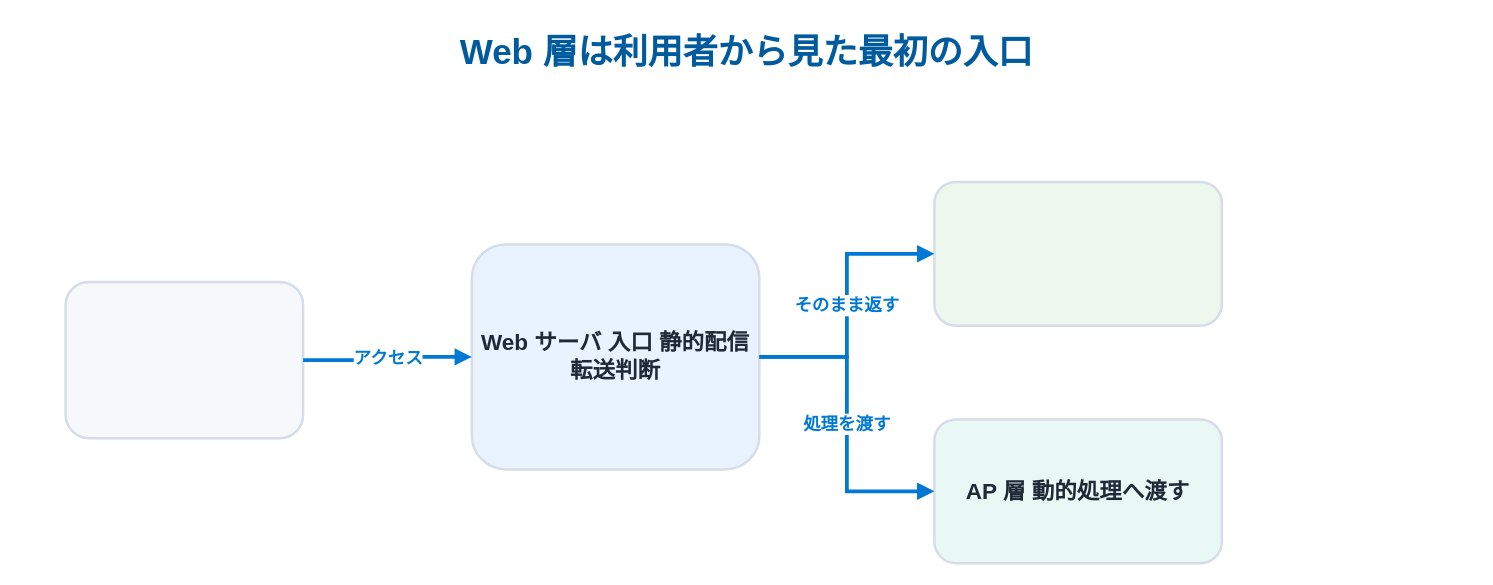
The diagram is 1493 pixels wide and 585 high, and some of its shapes have lost their labels. Each missing label, with the box of its shape:
ブラウザー HTTP/HTTPS: (64, 280, 304, 439)
静的ファイル HTML / CSS / 画像: (932, 180, 1222, 326)
